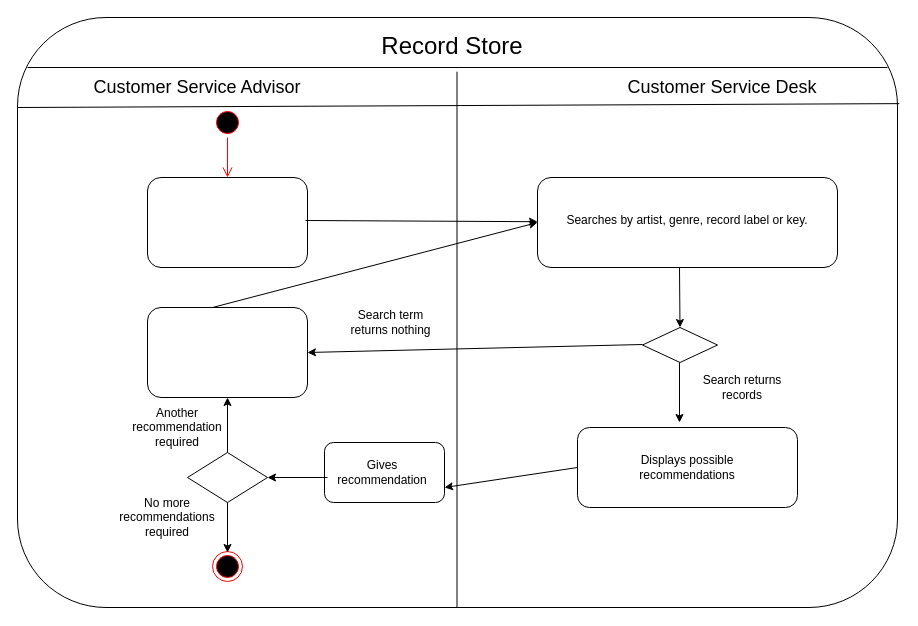
The diagram is 918 pixels wide and 626 high, and some of its shapes have lost their labels. The centre of each missing label's shape, as x and y in pixels:
"Different search term required" belongs at point 227,352.
"Is asked for a recommendation." belongs at point 227,222.
